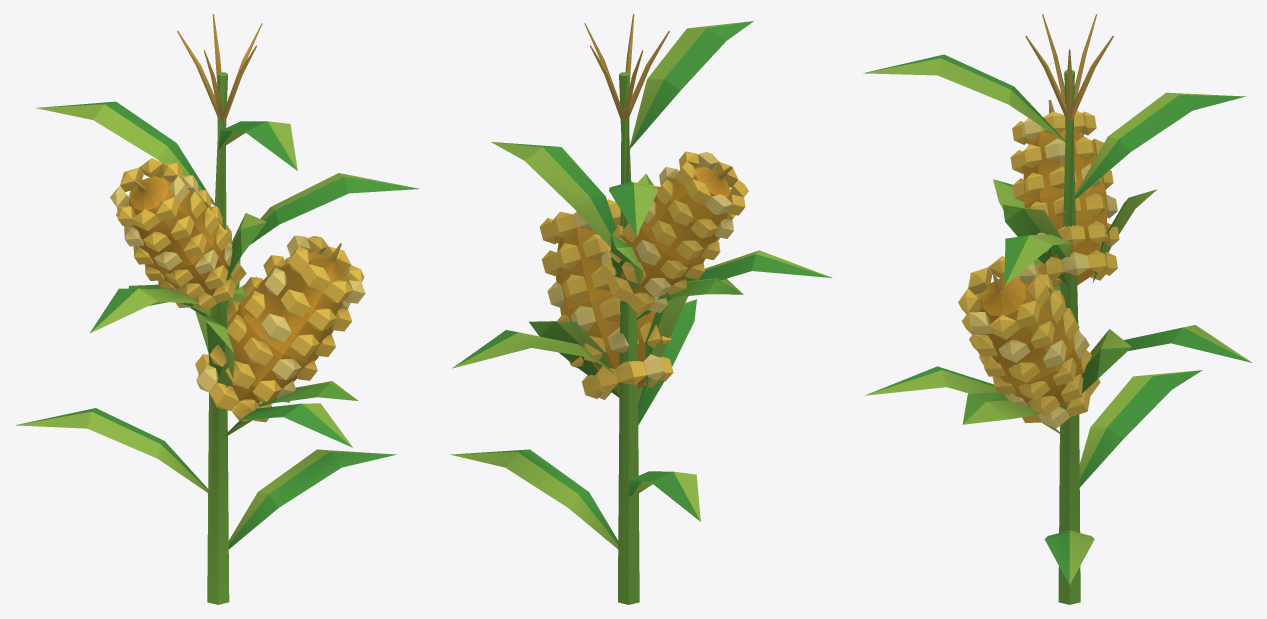
Rendered from Corn_4.glb.
The picture shows the model from 3 angles, left to right: view 1: azimuth 30°, elevation 25°; view 2: azimuth 150°, elevation 25°; view 3: azimuth 270°, elevation 25°; orthographic projection.
Parts seen in each view (by area): view 1: Corn_4; view 2: Corn_4; view 3: Corn_4.
Part boxes in pixels (x1,y1,x2,y2): Corn_4: (15, 14, 419, 604); Corn_4: (450, 14, 832, 604); Corn_4: (863, 14, 1252, 604).
Bounding box in the file's own units: 1.14 × 1.78 × 1.1.
